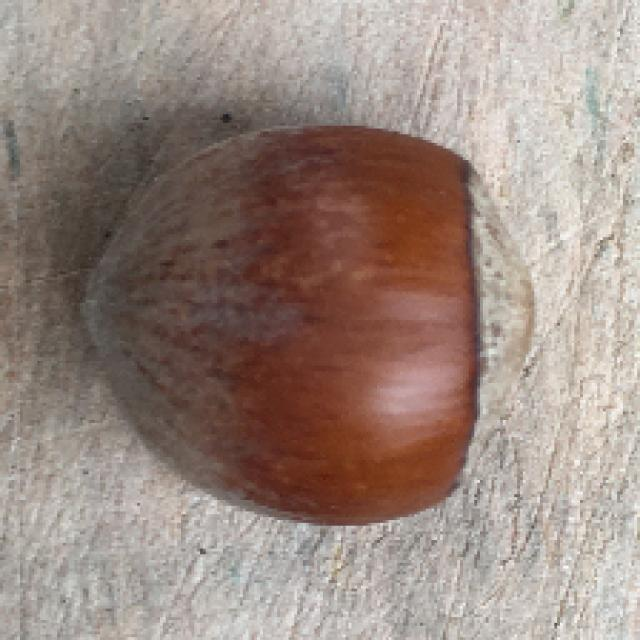qualityHazelnut: (78, 122, 538, 531)
